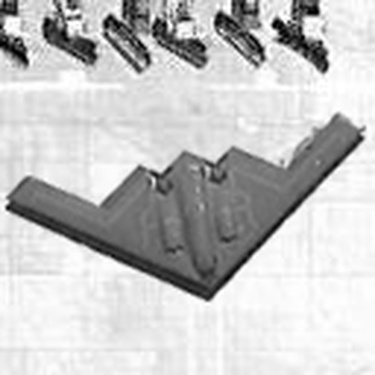airplane: (4, 101, 367, 307)
